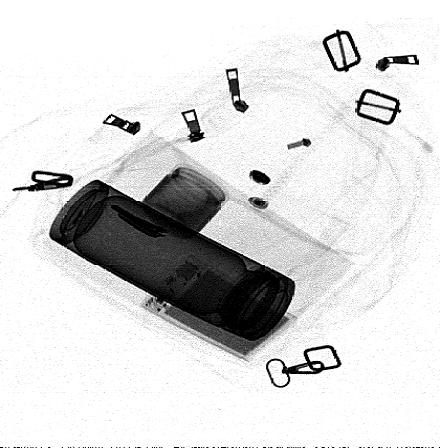Powerbank: (137, 254, 298, 363)
